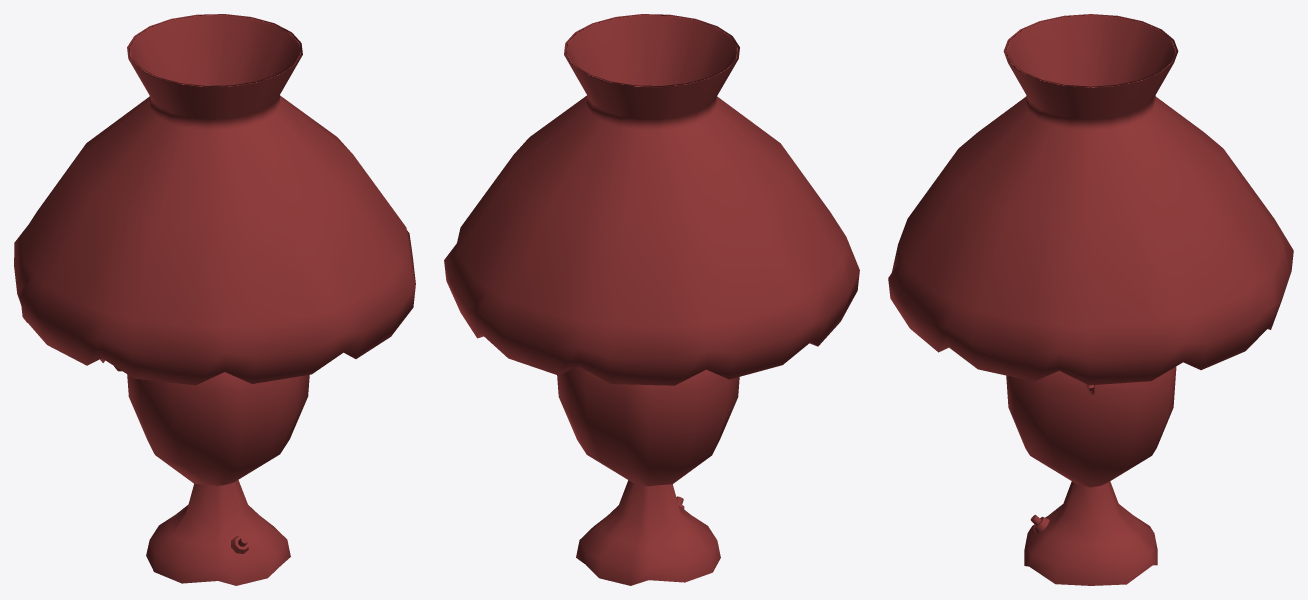
File: TableLamp.fbx
3 renders of one model, left to right at view 1: azimuth 30°, elevation 25°; view 2: azimuth 150°, elevation 25°; view 3: azimuth 270°, elevation 25°, orthographic.
Parts seen in each view (by area): view 1: polySurface28; view 2: polySurface28; view 3: polySurface28.
Part boxes in pixels (<box>): polySurface28: <box>14,14,415,585</box>; polySurface28: <box>444,14,859,585</box>; polySurface28: <box>888,14,1293,585</box>.
Size of the model in its own units: 31.97 by 43.45 by 31.61.
